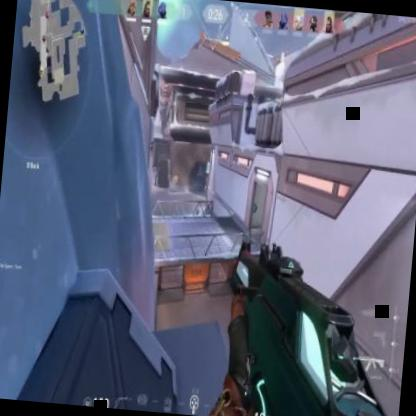enemy: (205, 184, 209, 194), (196, 209, 199, 218)
enemy_head: (207, 184, 208, 188), (197, 209, 198, 212)
